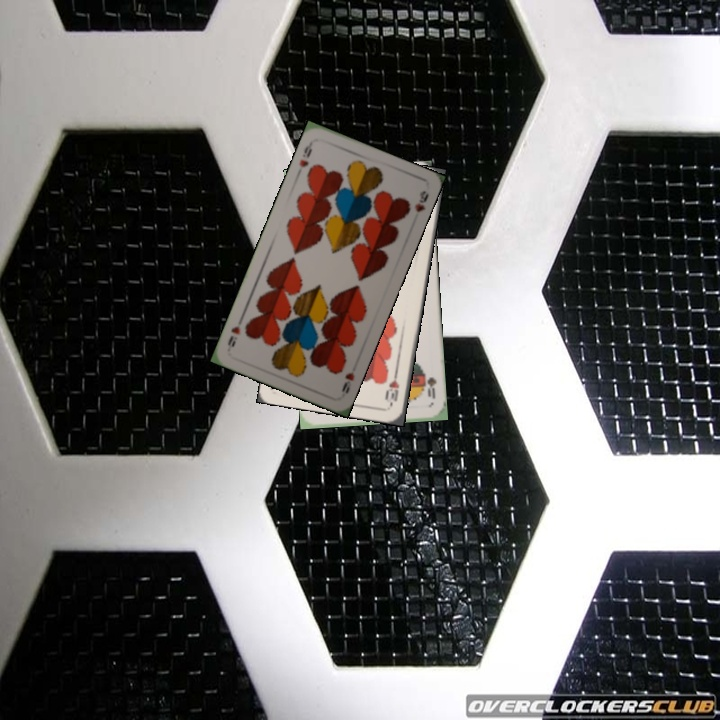H10: (383, 367, 402, 408)
H9: (295, 137, 315, 170), (337, 368, 357, 396)
SO: (421, 368, 439, 401)
